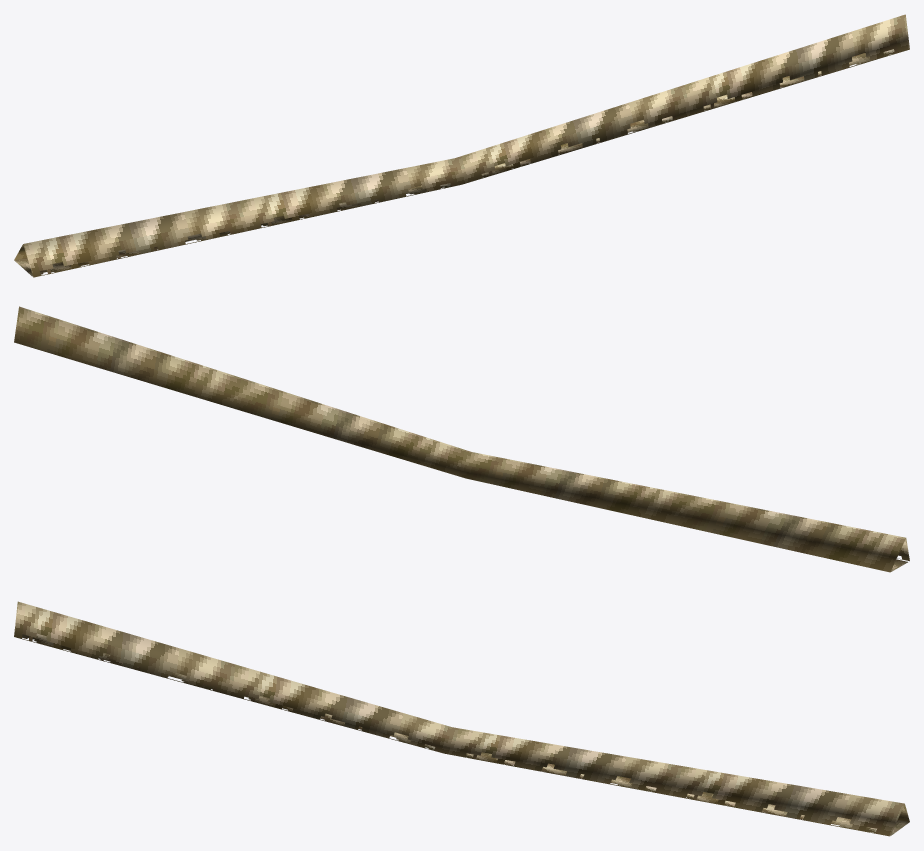
The model's file is excavationrope.obj.
3 views of the same model, one above another, from view 1: azimuth 30°, elevation 25°; view 2: azimuth 150°, elevation 25°; view 3: azimuth 330°, elevation 25° (orthographic).
Visible parts, largest first — view 1: excavationrope; view 2: excavationrope; view 3: excavationrope.
Part boxes in pixels (box(x1,y1,x2,y2)): excavationrope: box(14, 14, 909, 277); excavationrope: box(14, 306, 909, 572); excavationrope: box(14, 601, 909, 836).
Size of the model in its own units: 3.18 by 0.1922 by 0.1378.
Materials: 1 (1 with a texture image).
